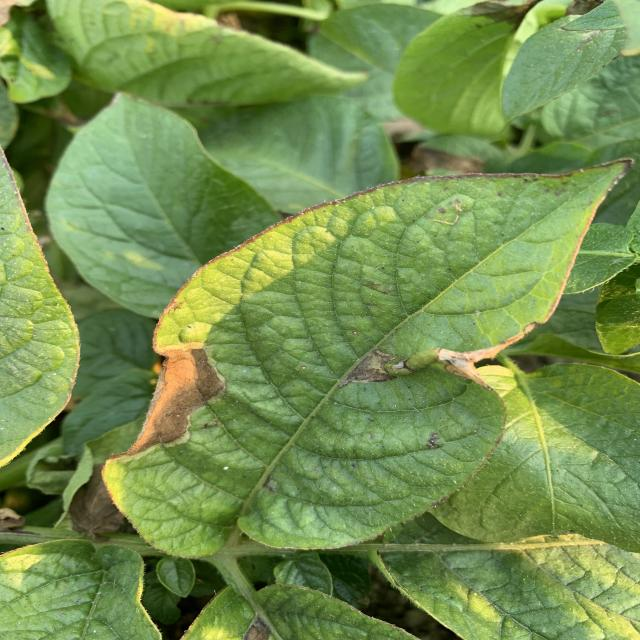lateblight: (338, 322, 535, 389), (127, 342, 223, 455)
